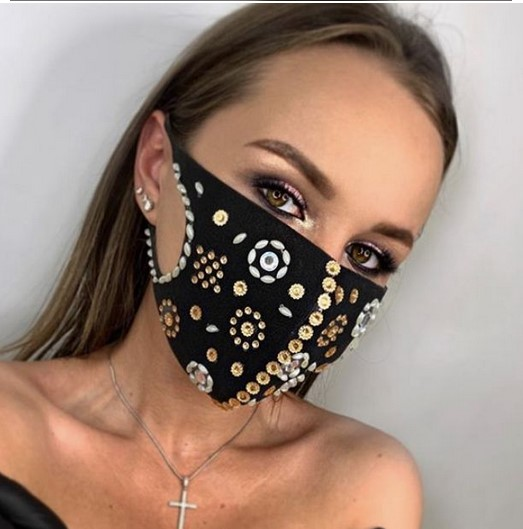face_with_mask: (124, 3, 461, 412)
